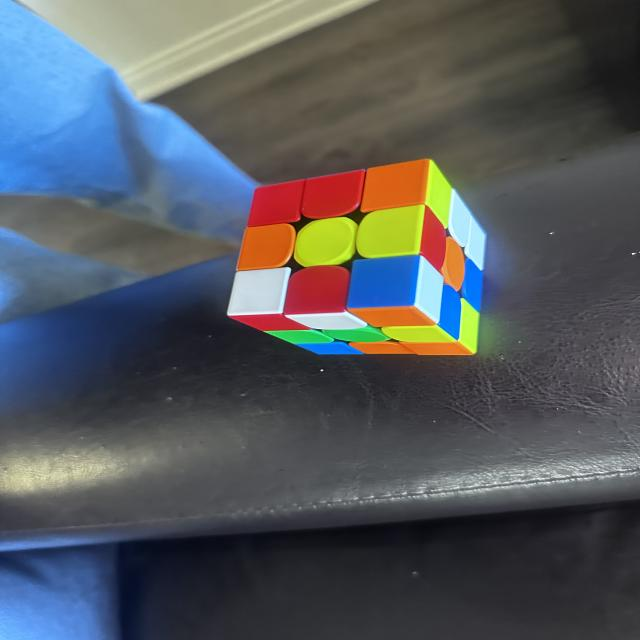sticker: (347, 255, 442, 328), (360, 158, 448, 219), (282, 264, 363, 329), (382, 286, 467, 346), (356, 204, 440, 263), (225, 266, 293, 320), (300, 169, 368, 221), (293, 216, 359, 268), (246, 178, 306, 229), (235, 222, 296, 272), (420, 207, 448, 275), (424, 164, 452, 230), (233, 311, 312, 333), (434, 285, 463, 340), (447, 189, 474, 247), (385, 324, 454, 346), (453, 299, 480, 354), (322, 324, 391, 344), (441, 237, 465, 293), (463, 212, 487, 268), (396, 339, 472, 356), (460, 258, 484, 310), (264, 329, 332, 345), (296, 340, 359, 356), (351, 341, 419, 355)
